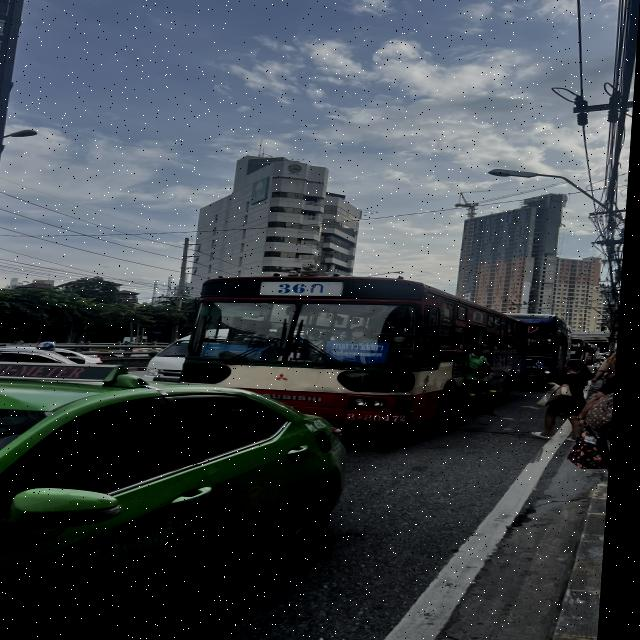BMTA-bus: (195, 275, 530, 432)
Bus Line Number: (276, 280, 333, 297), (527, 324, 547, 334)
Bus Side Number: (351, 410, 419, 424), (535, 365, 557, 370)
Destination Sign: (329, 342, 396, 366)
TSB-Bus: (514, 312, 574, 384)
